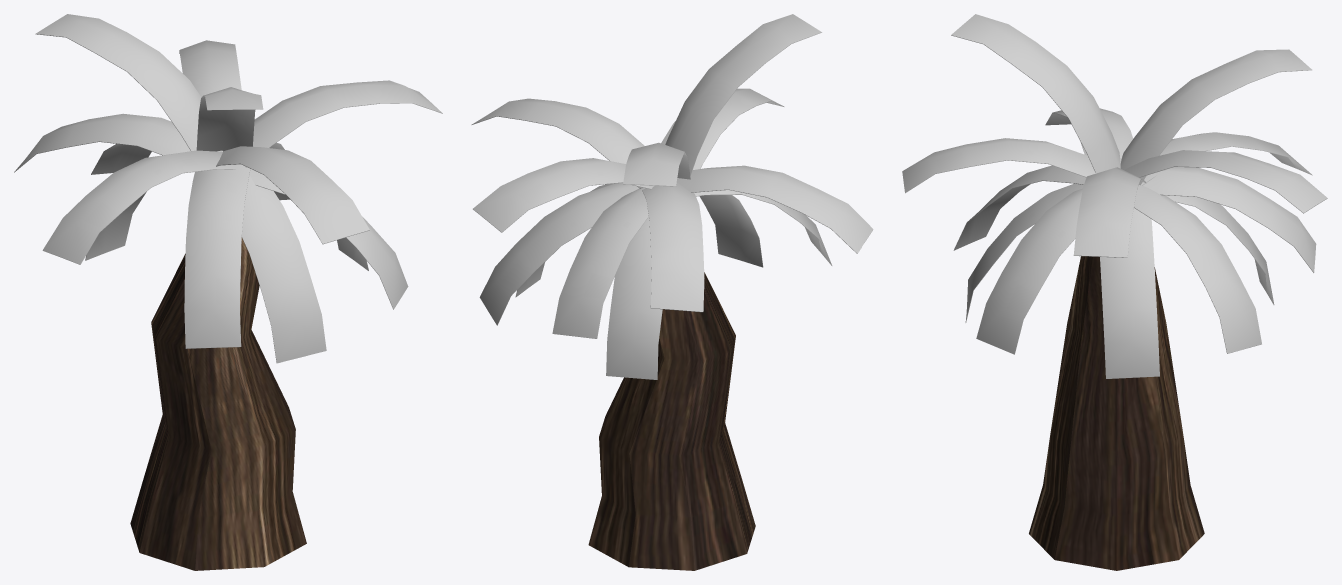
The model's file is tree_3.fbx.
3 views of the same model, side by side, from view 1: azimuth 30°, elevation 25°; view 2: azimuth 150°, elevation 25°; view 3: azimuth 270°, elevation 25° (orthographic). The views are drawn at different scales.
Parts seen in each view (by area): view 1: Tree_3; view 2: Tree_3; view 3: Tree_3.
Part boxes in pixels (left/top/right/bottom): Tree_3: left=14, top=14, right=442, bottom=570; Tree_3: left=471, top=14, right=873, bottom=570; Tree_3: left=902, top=14, right=1327, bottom=570.
Size of the model in its own units: 4.62 by 5.65 by 4.51.
